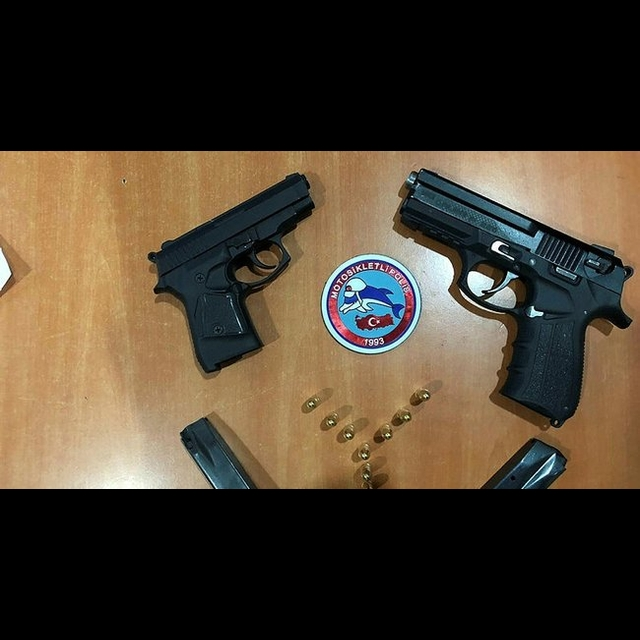SILAH: (397, 161, 633, 430), (144, 169, 318, 378)
